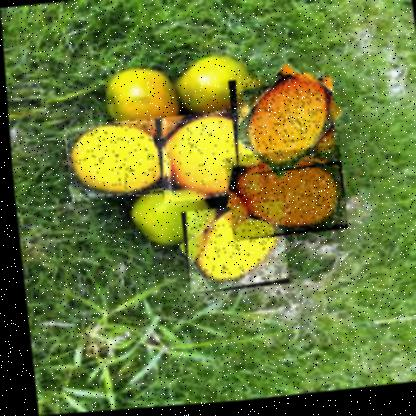orange: (225, 72, 338, 178), (220, 149, 344, 244), (176, 204, 285, 296), (151, 110, 256, 205), (61, 116, 170, 202)
